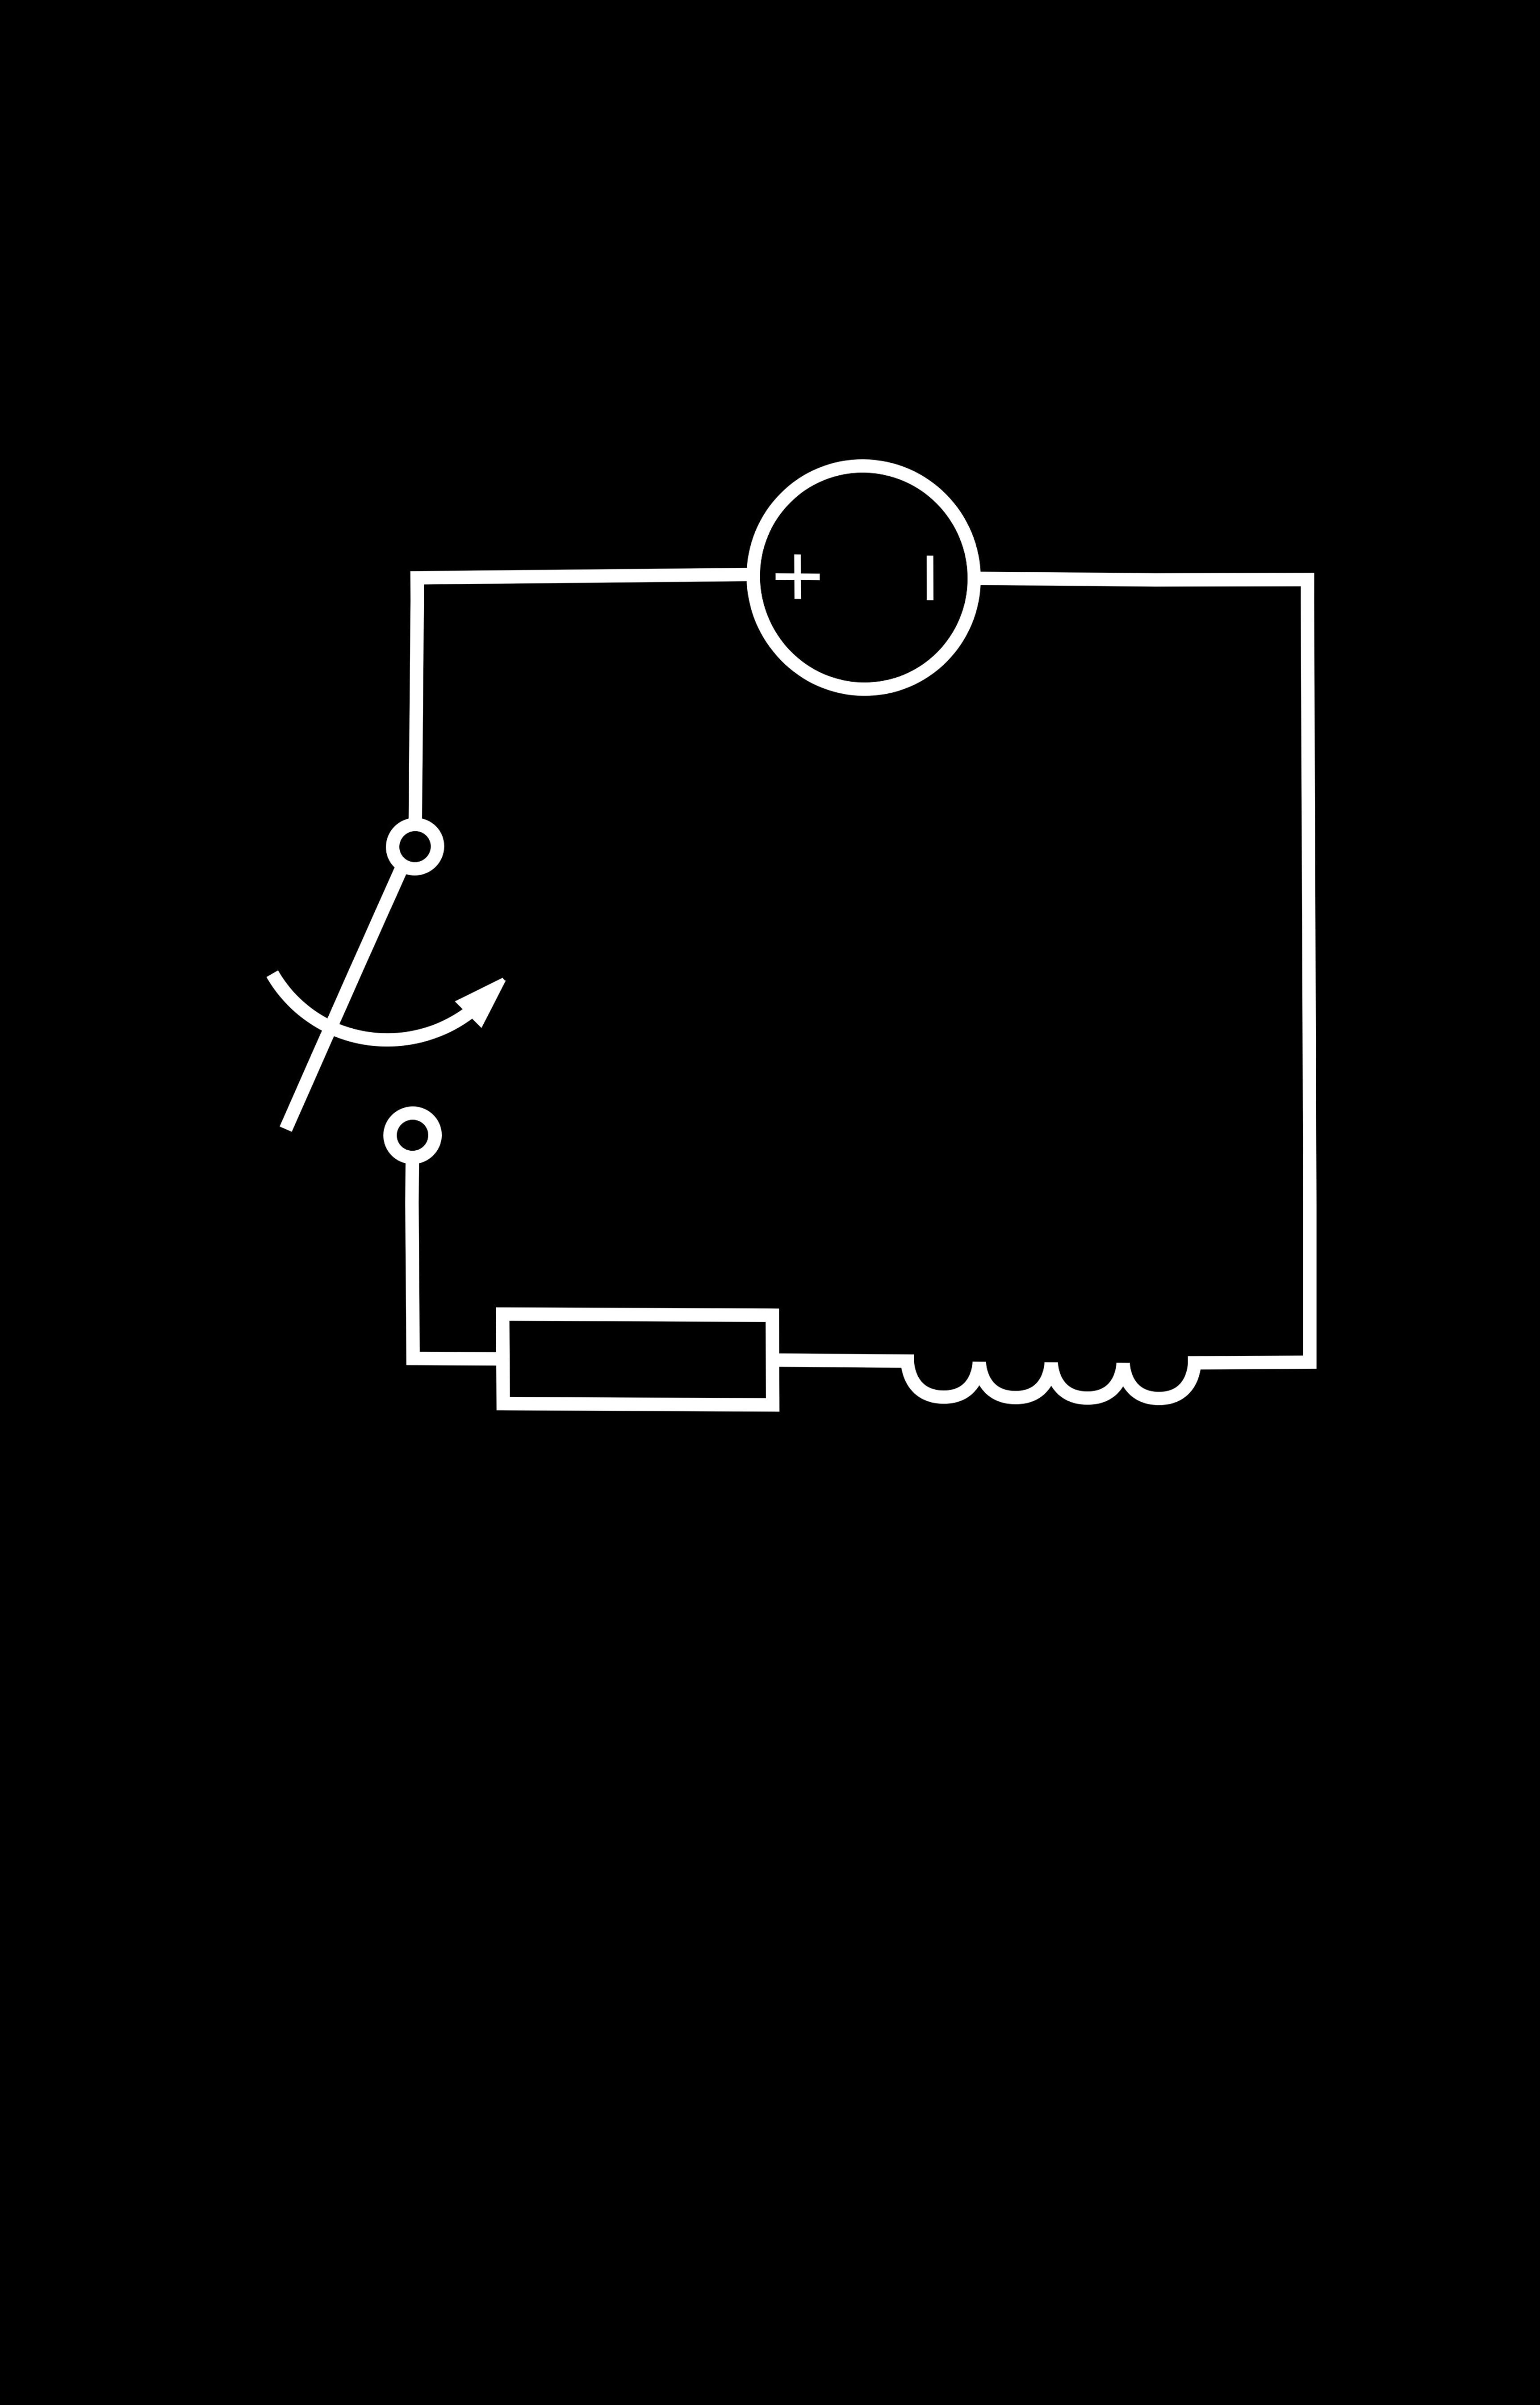Battery: (671, 426, 1056, 757)
